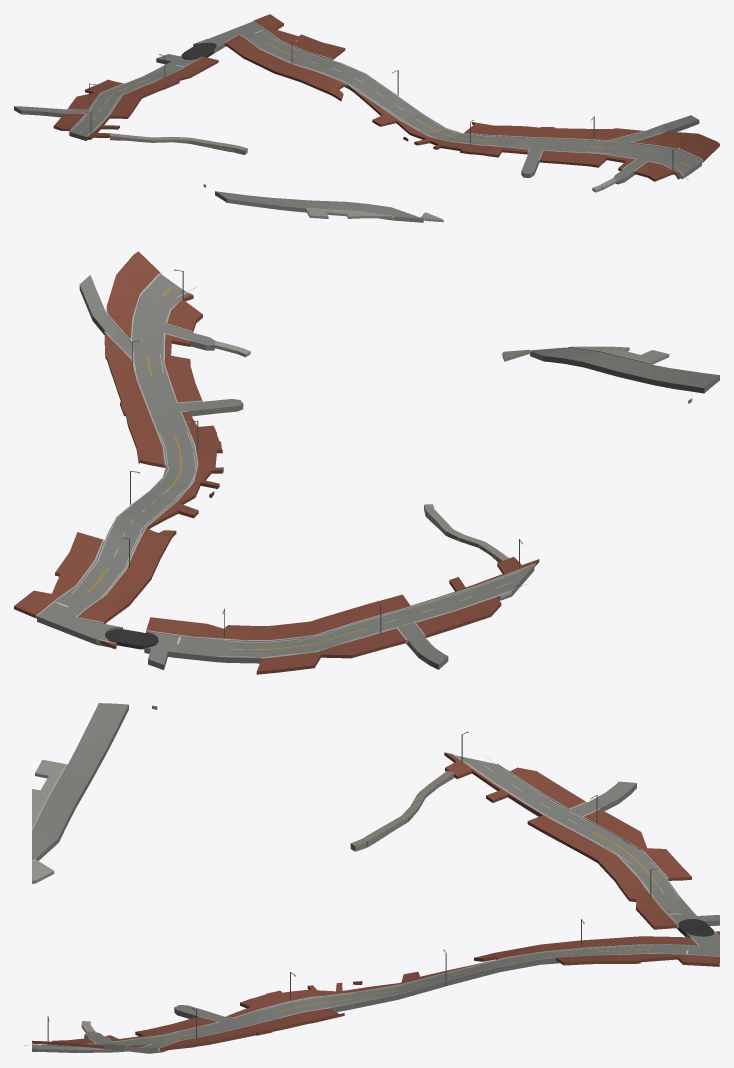
3 renders of one model, top to bottom at view 1: azimuth 30°, elevation 25°; view 2: azimuth 150°, elevation 25°; view 3: azimuth 270°, elevation 25°, orthographic. The views are drawn at different scales.
Size of the model in its own units: 149 by 25.8 by 150.
